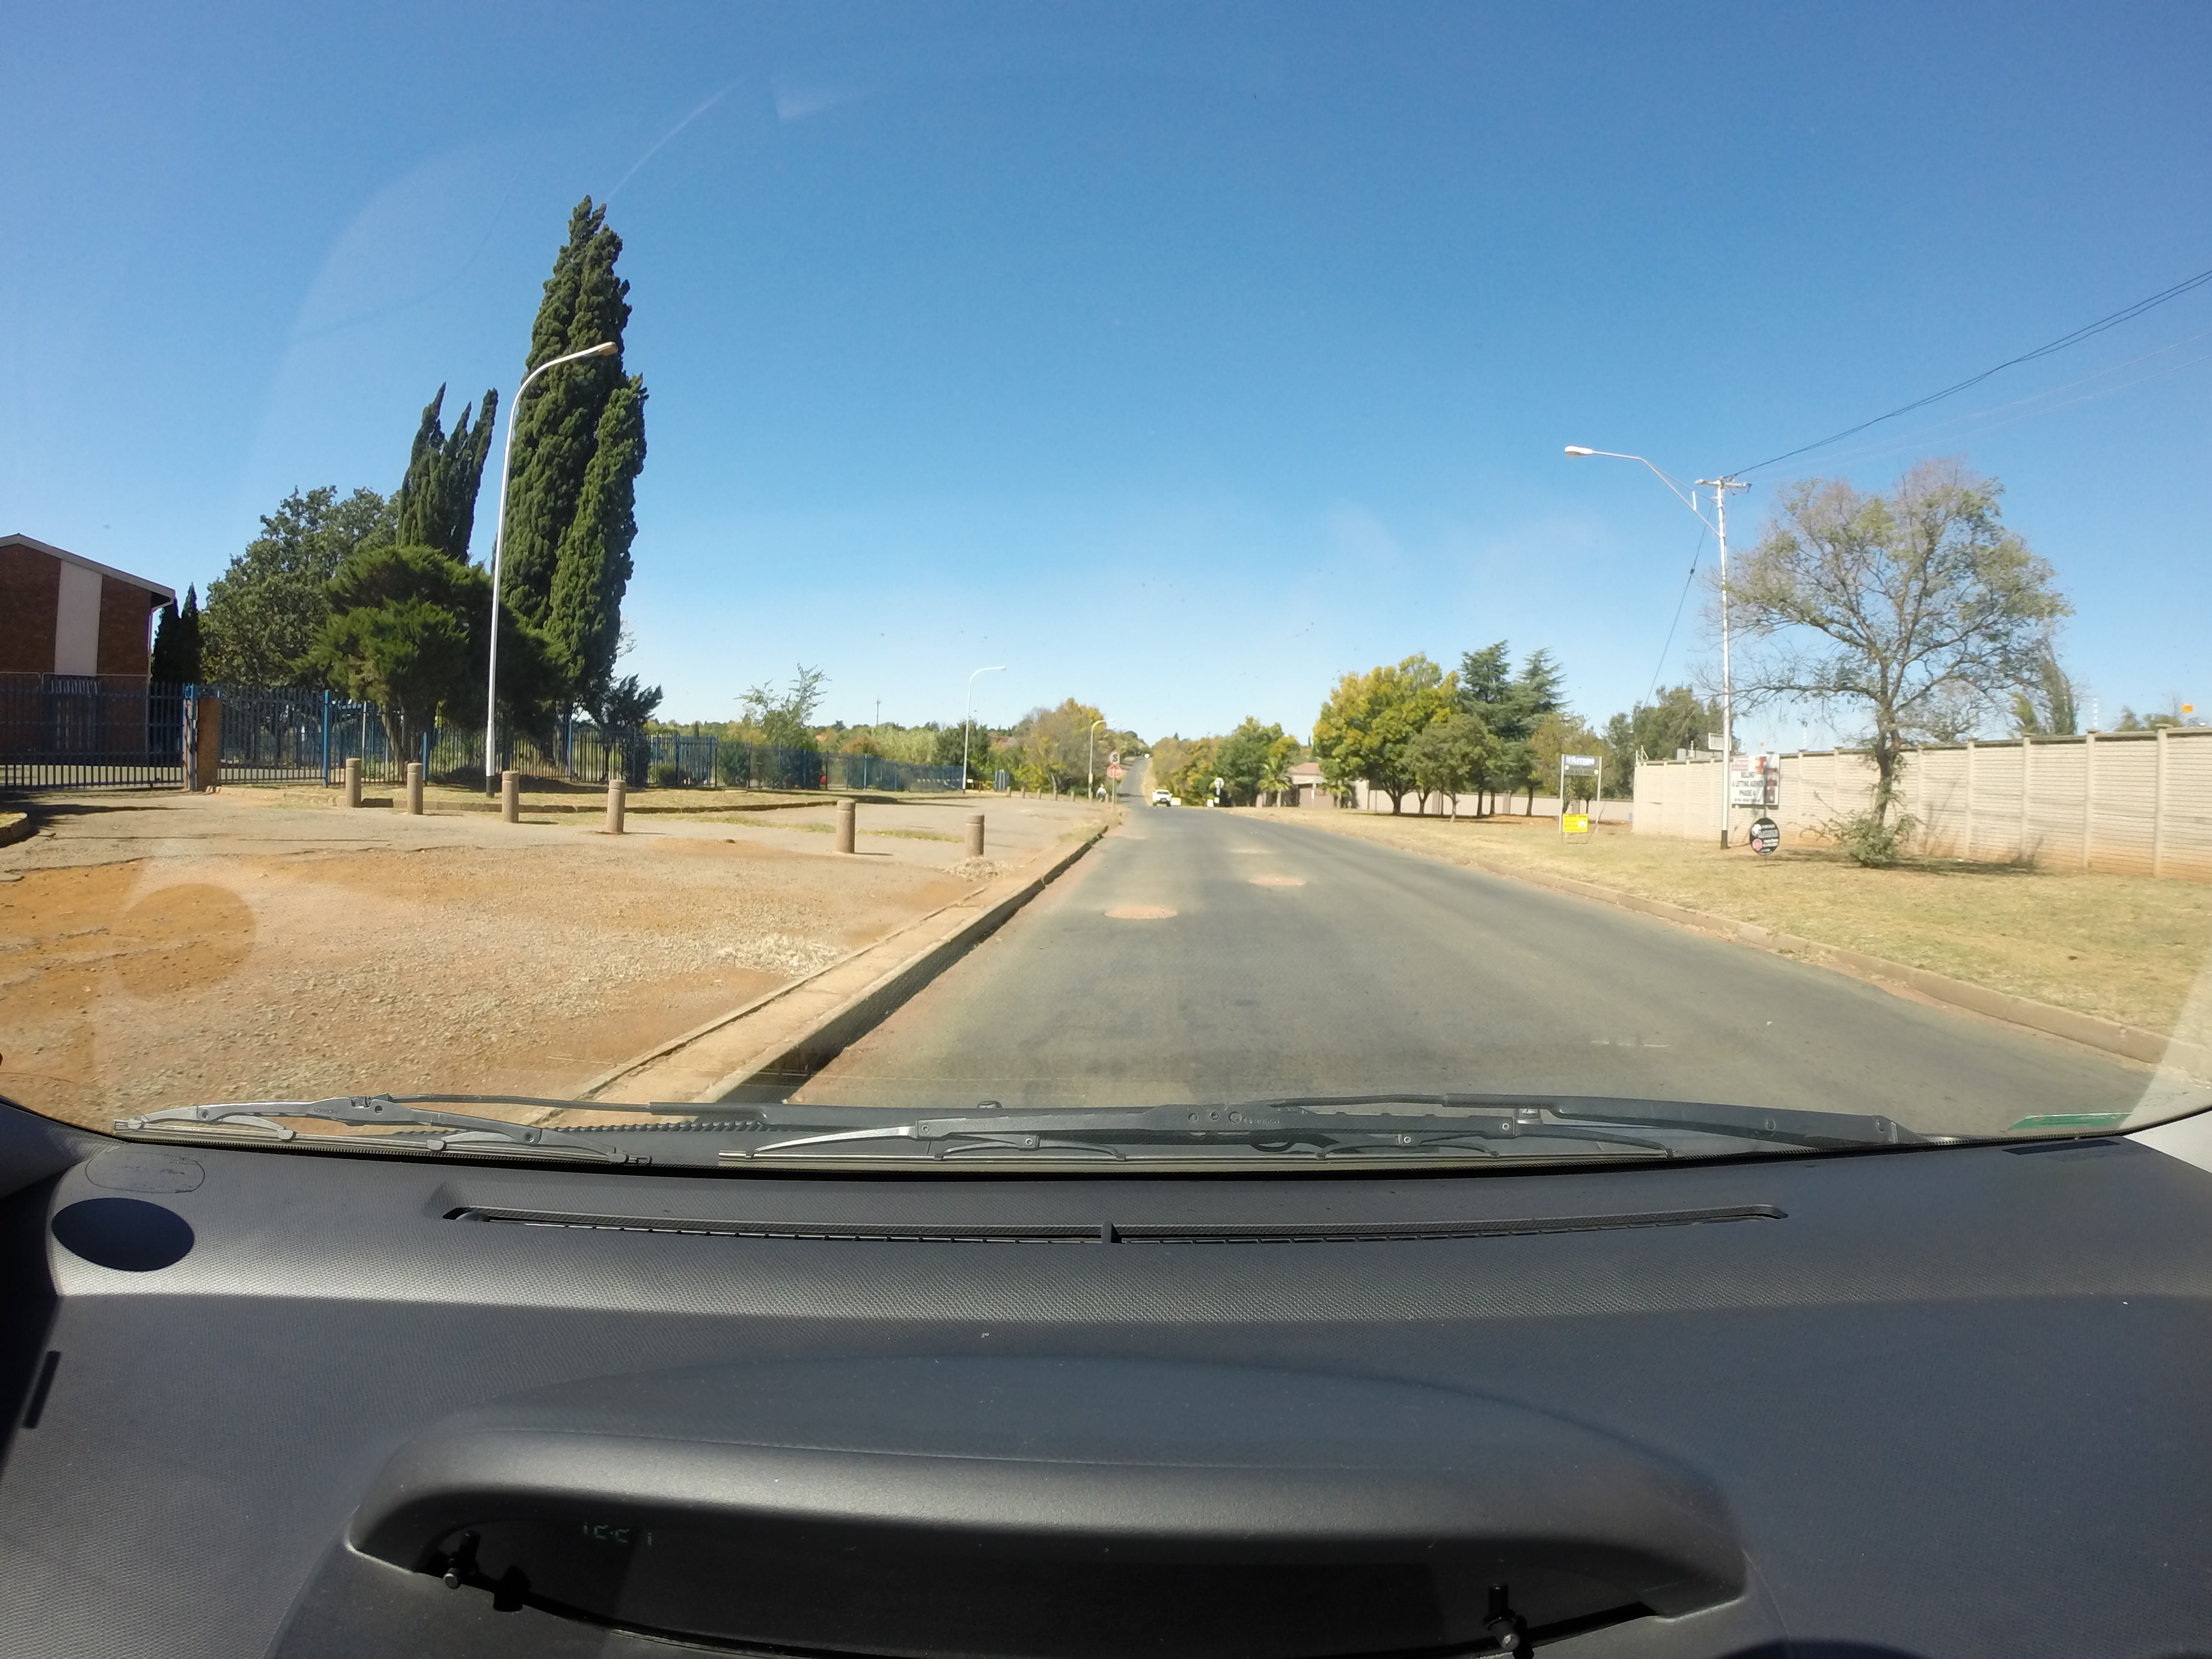pothole: (1101, 897, 1193, 932), (1249, 866, 1327, 896), (1230, 849, 1282, 857)
